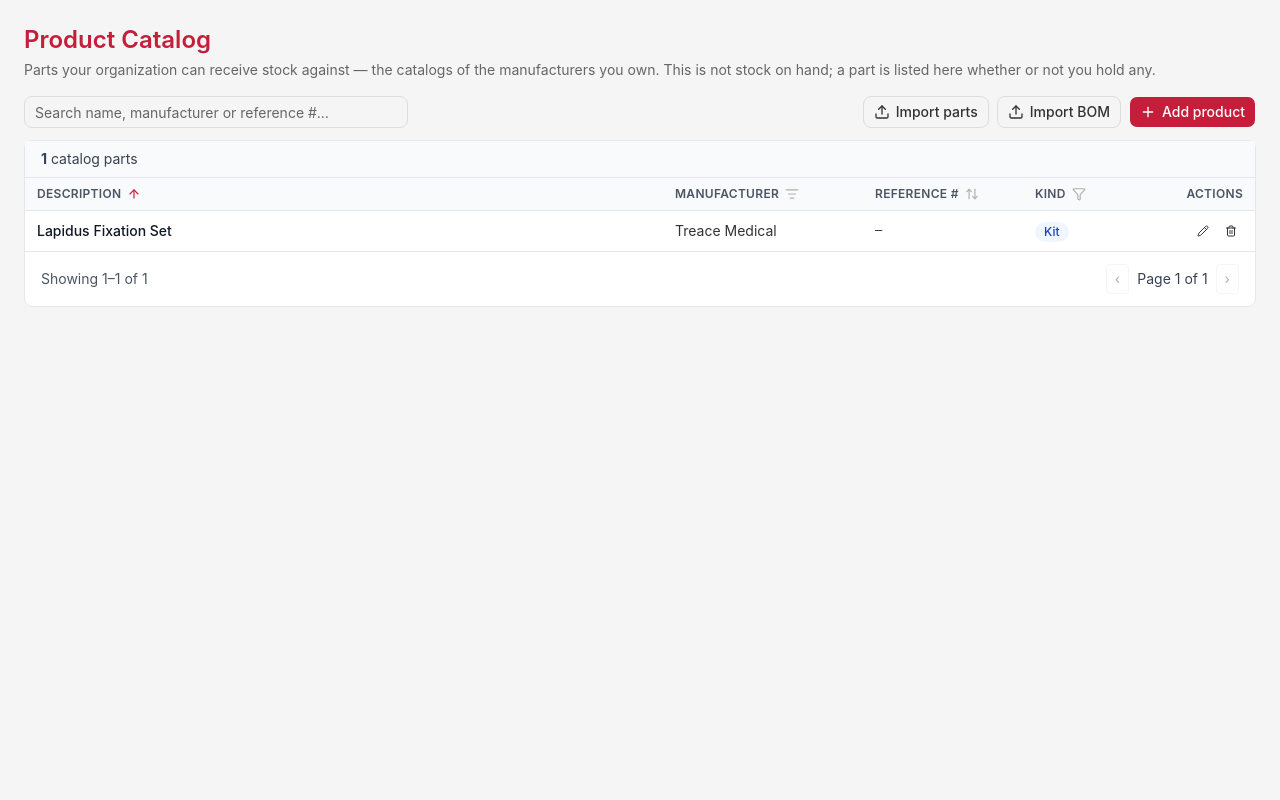
Test: importing a catalog › opens the BOM dialog, which says to import the parts first
Check: the link "Lapidus Fixation Set" is shown, box 37,222 -> 172,239
Click the button "Import BOM" at (1059, 112), box 997,96 -> 1121,128
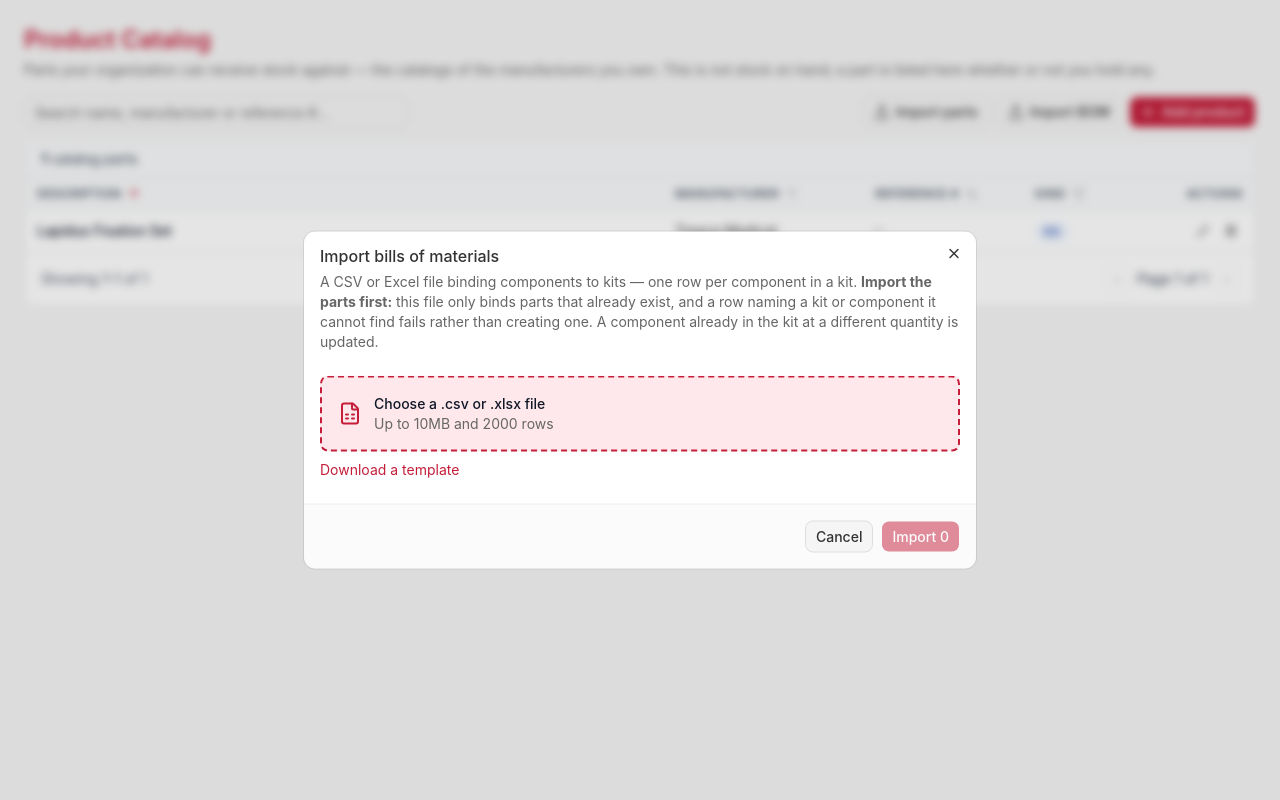
Check: the text "Import the parts first:" is shown, box 320,272 -> 932,310
